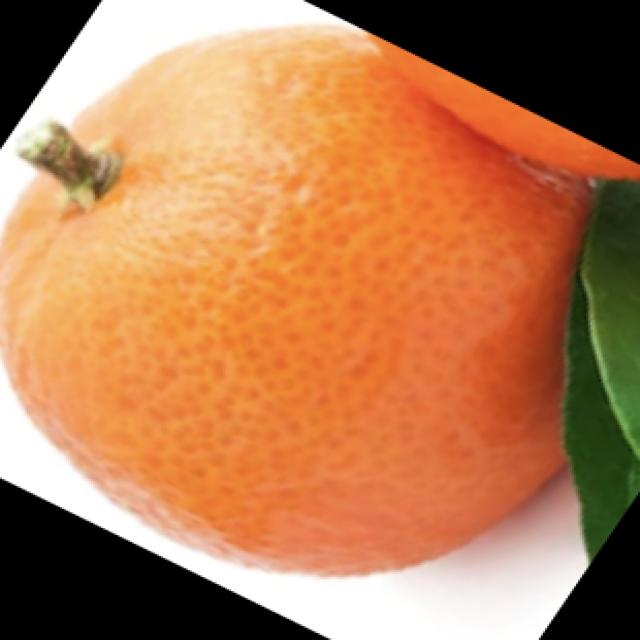matang: (1, 34, 614, 569), (378, 39, 638, 175)
